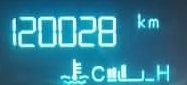0: (37, 15, 56, 47), (57, 15, 76, 47)
1: (10, 16, 16, 45)
2: (16, 15, 36, 47), (77, 15, 96, 47)
8: (96, 15, 116, 46)
X: (155, 62, 169, 81), (90, 65, 104, 81), (136, 12, 145, 28), (147, 17, 159, 28)
